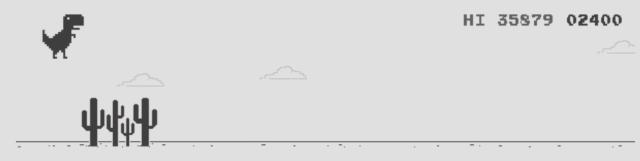cactus: (134, 98, 157, 146), (82, 98, 104, 146), (107, 101, 124, 146), (121, 118, 134, 146)
dinosaur: (43, 15, 83, 58), (82, 98, 104, 146)
